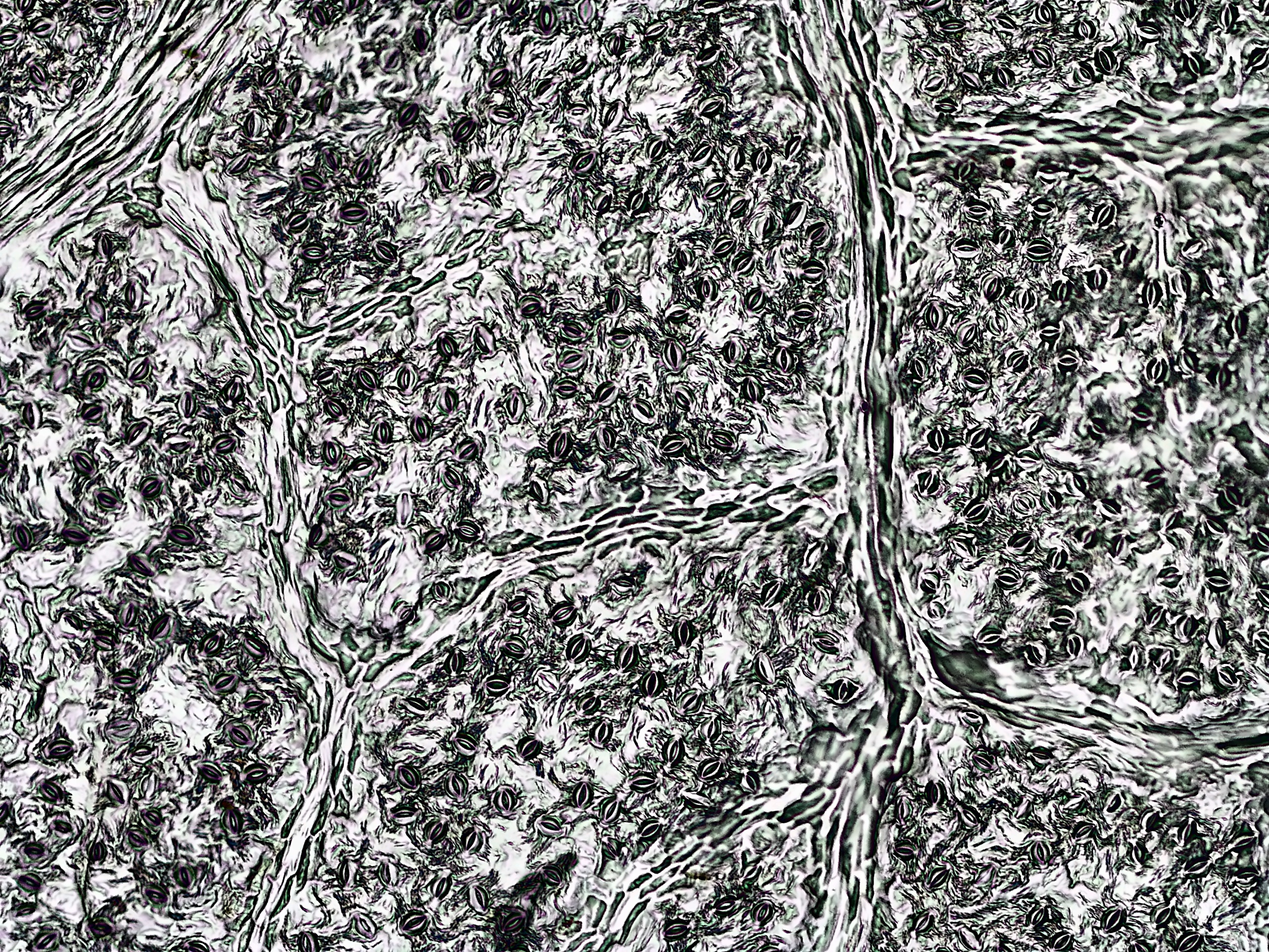stomata: (699, 557, 730, 590), (800, 540, 828, 573), (662, 338, 688, 373), (947, 535, 979, 563), (547, 430, 573, 463), (525, 475, 551, 506), (699, 715, 725, 746), (105, 715, 138, 739), (450, 729, 479, 756), (1200, 265, 1223, 299), (38, 779, 68, 805), (754, 651, 777, 684), (501, 634, 529, 661), (811, 629, 841, 654), (608, 459, 639, 483), (124, 356, 151, 383), (227, 721, 255, 747), (396, 763, 422, 791), (493, 785, 519, 813), (473, 321, 495, 354), (506, 387, 526, 423), (566, 632, 590, 662), (760, 577, 784, 607), (808, 586, 832, 616), (631, 398, 657, 425), (71, 449, 98, 475), (677, 689, 703, 716), (924, 865, 950, 892), (980, 275, 1006, 302), (371, 418, 396, 446), (534, 812, 565, 834), (642, 670, 668, 696), (356, 366, 383, 391), (595, 422, 616, 454), (211, 671, 240, 694), (1025, 238, 1054, 261), (923, 301, 946, 330), (681, 788, 711, 810), (951, 237, 981, 259), (787, 199, 808, 230), (1089, 202, 1115, 227), (1012, 288, 1038, 313), (690, 141, 714, 168), (95, 487, 122, 511), (401, 693, 429, 716), (125, 278, 145, 310), (165, 525, 197, 545), (1231, 868, 1263, 888), (224, 153, 253, 175), (644, 134, 666, 163), (61, 524, 90, 546), (603, 100, 624, 130), (591, 718, 612, 748), (446, 772, 467, 802), (392, 804, 422, 825), (672, 386, 697, 411), (535, 668, 560, 693), (1065, 469, 1090, 494), (1245, 46, 1269, 72), (741, 376, 764, 403), (424, 818, 447, 845), (917, 468, 940, 495), (1215, 666, 1242, 689), (468, 884, 490, 912), (353, 910, 375, 938), (471, 172, 496, 196), (401, 911, 426, 935), (959, 925, 984, 949), (1223, 314, 1248, 338), (698, 94, 724, 117), (130, 551, 153, 577), (954, 321, 977, 347), (661, 436, 688, 458), (571, 781, 593, 808), (1230, 830, 1257, 852), (995, 567, 1022, 589), (723, 338, 744, 366), (20, 402, 41, 430), (1151, 901, 1172, 929), (964, 200, 992, 221), (600, 795, 620, 824), (1177, 817, 1197, 846), (82, 367, 107, 390), (737, 772, 762, 795), (1005, 350, 1030, 373), (1222, 483, 1245, 508), (436, 332, 458, 358), (224, 376, 246, 402), (1103, 790, 1125, 816), (1097, 48, 1119, 74), (923, 70, 949, 92), (1086, 267, 1108, 293), (13, 522, 32, 552), (628, 772, 658, 791), (664, 736, 683, 766), (675, 617, 694, 647), (1143, 279, 1162, 309), (699, 277, 720, 304), (501, 912, 528, 933), (613, 642, 634, 669), (1041, 487, 1062, 514), (1145, 356, 1166, 383), (93, 1, 121, 21), (110, 672, 138, 692), (1212, 364, 1232, 392), (374, 240, 398, 263), (573, 152, 596, 176), (712, 234, 736, 257), (971, 749, 995, 772), (1158, 565, 1182, 588), (398, 364, 417, 393), (42, 738, 71, 757), (287, 71, 309, 96), (243, 112, 265, 137), (220, 809, 242, 834), (462, 828, 484, 853), (378, 861, 400, 886), (962, 368, 987, 390), (1185, 857, 1211, 878), (695, 0, 727, 17), (341, 203, 368, 223), (485, 676, 512, 696), (894, 795, 912, 825), (1070, 157, 1097, 177), (607, 286, 626, 314), (338, 858, 357, 886), (929, 425, 948, 453), (1210, 619, 1229, 647), (563, 318, 587, 340), (107, 780, 129, 804), (518, 735, 540, 759), (965, 423, 987, 447), (1099, 497, 1123, 519), (610, 327, 635, 348), (409, 416, 430, 441), (150, 614, 171, 639), (1176, 931, 1201, 952), (1049, 608, 1074, 629), (539, 5, 557, 34), (561, 351, 590, 369), (726, 144, 746, 170), (350, 456, 376, 476), (1016, 449, 1042, 469), (454, 442, 481, 461), (1032, 198, 1059, 217), (178, 389, 194, 421), (577, 693, 600, 715), (1160, 509, 1182, 532), (275, 112, 293, 140), (792, 301, 816, 322), (710, 431, 738, 449), (596, 382, 617, 406), (437, 388, 458, 412), (67, 332, 95, 350), (243, 635, 267, 656), (665, 921, 689, 942), (986, 452, 1007, 476), (576, 0, 596, 25), (87, 298, 107, 323), (93, 631, 118, 651), (445, 649, 465, 674), (1032, 841, 1052, 866), (1052, 278, 1072, 303), (1179, 349, 1199, 374), (298, 172, 324, 191), (433, 163, 452, 189), (442, 465, 461, 491), (212, 432, 238, 451), (926, 780, 945, 806), (961, 708, 987, 727), (321, 440, 343, 462), (141, 477, 163, 499), (24, 298, 47, 319), (541, 864, 564, 885), (1063, 635, 1084, 658), (398, 103, 418, 127), (606, 31, 626, 55), (644, 19, 668, 39), (34, 932, 58, 952), (610, 574, 634, 594), (751, 900, 771, 924), (833, 678, 853, 702), (1100, 907, 1120, 931), (995, 225, 1015, 249), (1202, 515, 1226, 535), (786, 134, 803, 162), (31, 18, 56, 37), (1140, 807, 1159, 832), (989, 312, 1008, 337), (1179, 614, 1197, 640), (398, 492, 413, 523), (487, 67, 509, 88), (698, 46, 720, 67), (203, 634, 224, 656), (919, 571, 940, 593), (455, 119, 475, 142), (801, 260, 824, 280), (325, 398, 345, 421), (200, 761, 223, 781), (52, 818, 75, 838), (1032, 46, 1052, 69), (320, 86, 337, 113), (1172, 271, 1189, 298), (1109, 533, 1126, 560), (1205, 572, 1232, 589), (261, 66, 280, 90), (383, 48, 402, 72), (353, 156, 372, 180), (457, 522, 481, 541), (80, 402, 104, 421), (703, 757, 722, 781), (1118, 242, 1137, 266), (302, 243, 327, 261), (746, 285, 764, 310), (1009, 532, 1034, 550), (492, 106, 518, 123), (676, 244, 693, 270), (664, 304, 690, 321), (329, 487, 350, 508), (958, 806, 979, 827), (961, 69, 982, 90), (1015, 495, 1036, 516), (520, 295, 540, 317), (1075, 19, 1095, 41), (955, 160, 975, 182), (1183, 237, 1205, 257), (1029, 641, 1049, 663), (703, 177, 722, 200), (145, 883, 168, 902), (775, 347, 793, 371), (124, 830, 148, 848), (940, 18, 967, 34), (1136, 21, 1160, 39), (1220, 5, 1236, 32), (287, 210, 307, 231), (758, 211, 773, 239), (230, 475, 250, 496), (64, 612, 85, 632), (554, 603, 575, 623), (1073, 62, 1093, 83), (1021, 413, 1041, 434), (977, 629, 1005, 644), (127, 421, 146, 443), (88, 841, 107, 863), (639, 819, 661, 838), (1079, 525, 1098, 547), (1066, 574, 1088, 593), (313, 5, 331, 28), (754, 150, 772, 173), (735, 252, 753, 275), (91, 919, 114, 937), (1028, 748, 1051, 766), (1251, 524, 1269, 547), (412, 27, 429, 51), (628, 190, 645, 214), (594, 191, 611, 215), (555, 380, 579, 397), (433, 578, 450, 602), (913, 910, 930, 934), (1177, 669, 1201, 686), (424, 530, 444, 550), (335, 553, 360, 569), (175, 863, 191, 888), (994, 67, 1014, 87), (1046, 548, 1066, 568), (68, 73, 90, 91), (242, 693, 264, 711), (132, 744, 154, 762), (119, 604, 136, 627), (432, 875, 449, 898), (1029, 905, 1046, 928), (915, 43, 938, 60), (1132, 405, 1155, 422), (1144, 468, 1167, 485), (11, 0, 35, 16), (96, 232, 112, 256), (0, 27, 20, 46), (1052, 932, 1071, 952), (1174, 0, 1193, 20), (965, 502, 985, 521), (29, 64, 47, 85), (456, 0, 474, 21), (305, 524, 326, 542), (994, 14, 1015, 32), (1057, 352, 1078, 370), (1132, 841, 1147, 866), (934, 98, 959, 113), (324, 150, 341, 172), (17, 873, 39, 890), (1038, 322, 1061, 338), (911, 356, 927, 379), (729, 196, 748, 215), (249, 765, 268, 784), (809, 221, 827, 241), (1036, 5, 1056, 23), (567, 103, 588, 120), (198, 466, 215, 487), (507, 598, 528, 615), (316, 367, 338, 383), (1186, 53, 1202, 75), (186, 939, 213, 952), (571, 57, 590, 75), (740, 859, 757, 879), (1038, 164, 1059, 180), (170, 436, 192, 451), (398, 606, 416, 624), (26, 840, 44, 858), (142, 809, 161, 826), (300, 933, 317, 952), (1126, 645, 1140, 668), (604, 836, 619, 857), (1074, 824, 1095, 839), (1157, 649, 1172, 670), (1147, 608, 1164, 626), (1089, 418, 1108, 434), (0, 797, 12, 822), (16, 905, 36, 920), (715, 896, 735, 911), (894, 843, 914, 858), (922, 0, 949, 11), (928, 602, 945, 619), (1257, 586, 1269, 610), (536, 78, 550, 97), (1130, 940, 1151, 952), (1254, 631, 1269, 647), (506, 0, 523, 13), (1154, 213, 1167, 230), (343, 0, 363, 11), (0, 119, 11, 138)
